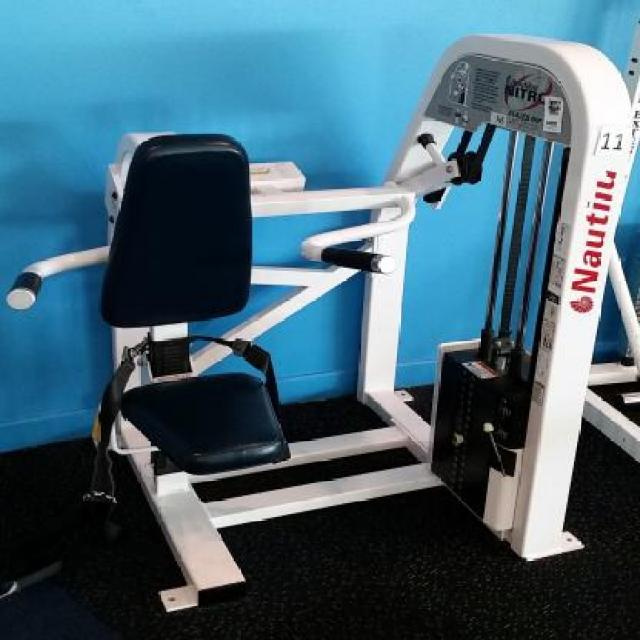seated dip machine: (5, 35, 629, 611)
